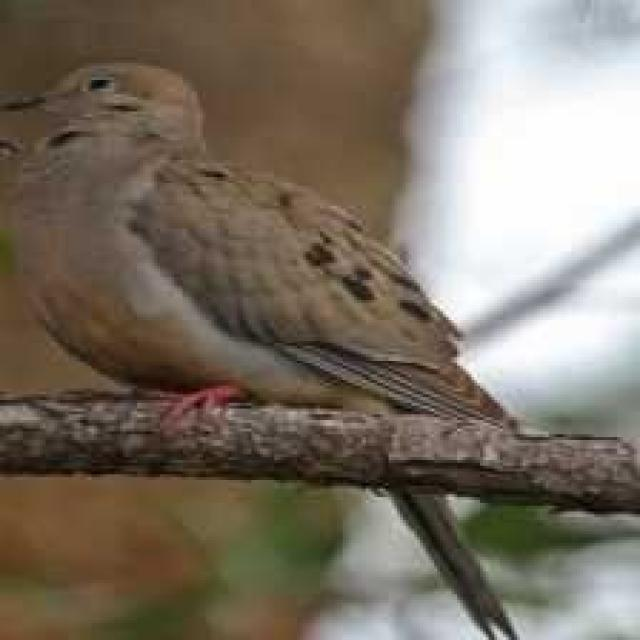bird: (0, 40, 546, 640)
